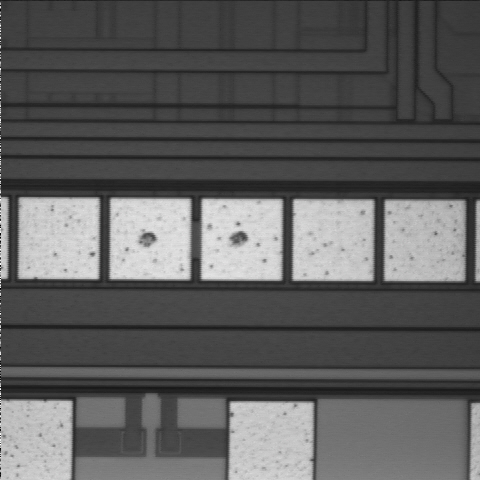pad: (19, 198, 99, 279), (202, 199, 282, 280), (293, 200, 373, 281), (110, 199, 190, 279), (385, 201, 464, 281)
